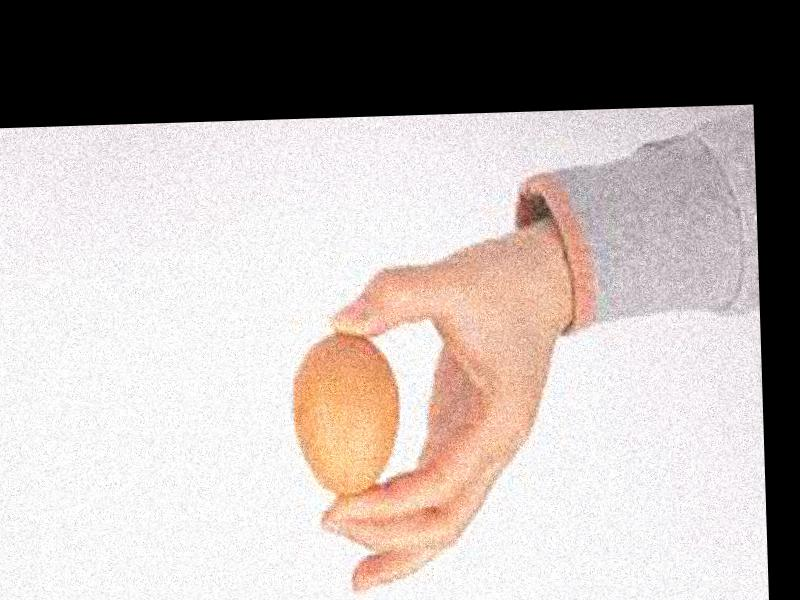Eggs: (291, 336, 398, 501)
